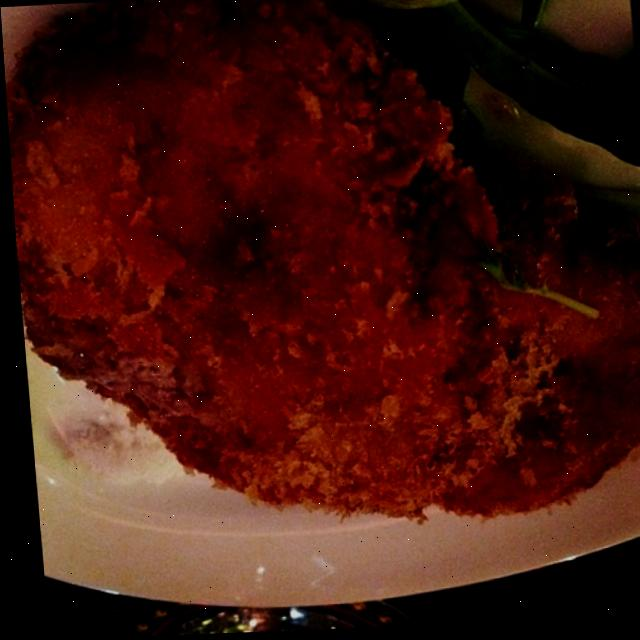炸货点心: (3, 3, 610, 587)
